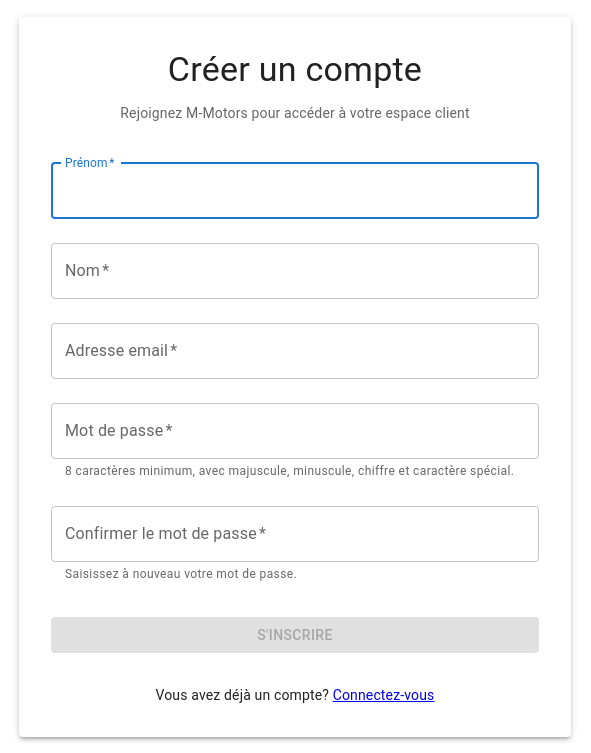
RegisterPage › bloque une confirmation différente
This screenshot has width=591, height=753.
In the password field labelled "Mot de passe *": [295, 431] box [51,403,539,459], type "SecurePass123!"
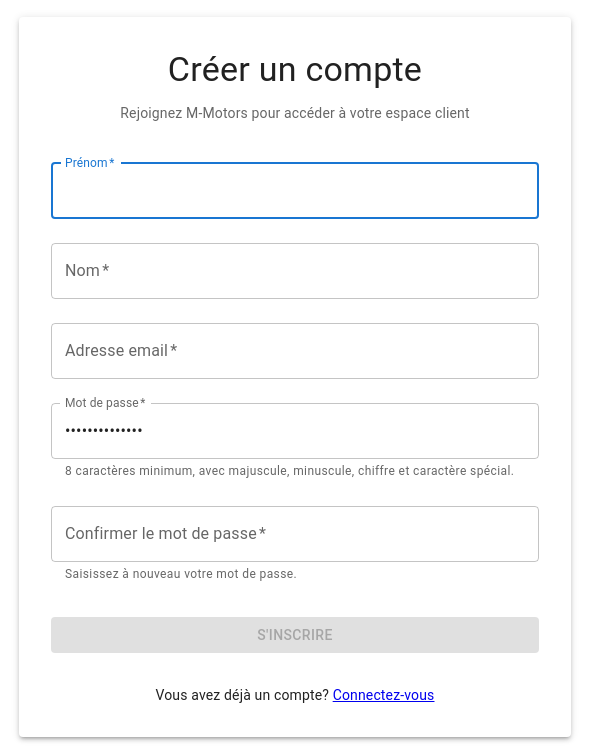
In the password field labelled "Confirmer le mot de passe *": [295, 534] box [51,506,539,562], type "SecurePass123?"
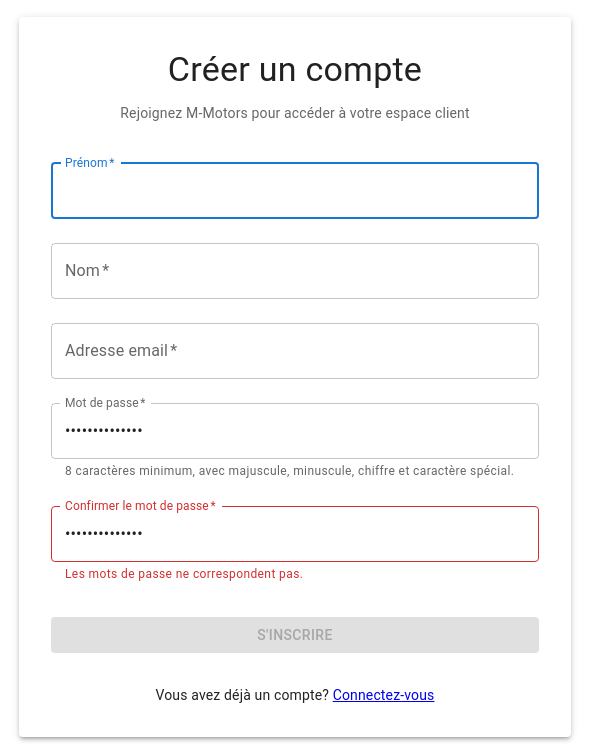
Check: the button "S'inscrire" is disabled, box [51,617,539,653]
Check: the text "Les mots de passe ne correspondent pas." is shown, box [65,567,303,581]
